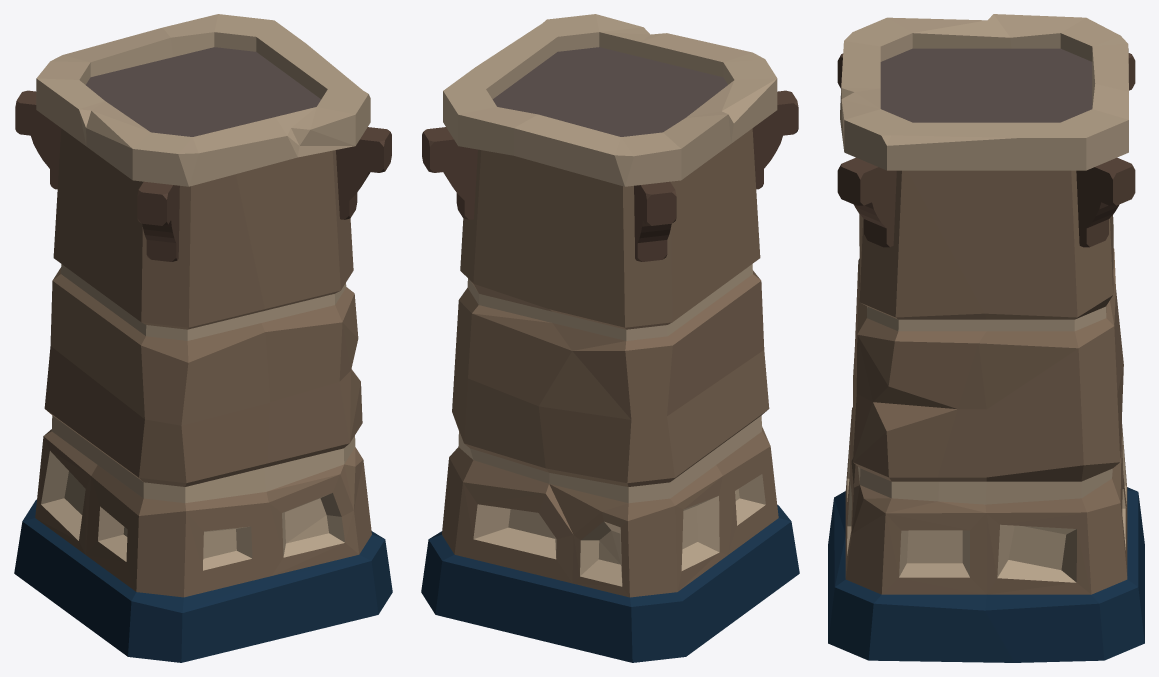
File: Wall_Tower_2.fbx
3 renders of one model, left to right at view 1: azimuth 30°, elevation 25°; view 2: azimuth 150°, elevation 25°; view 3: azimuth 270°, elevation 25°, orthographic. The views are drawn at different scales.
Visible parts, largest first — view 1: Wall_Tower_2; view 2: Wall_Tower_2; view 3: Wall_Tower_2.
Part boxes in pixels (x1,y1,x2,y2): Wall_Tower_2: [14, 14, 392, 662]; Wall_Tower_2: [421, 14, 799, 662]; Wall_Tower_2: [828, 14, 1144, 662].
Size of the model in its own units: 3.33 by 5.93 by 3.27.
